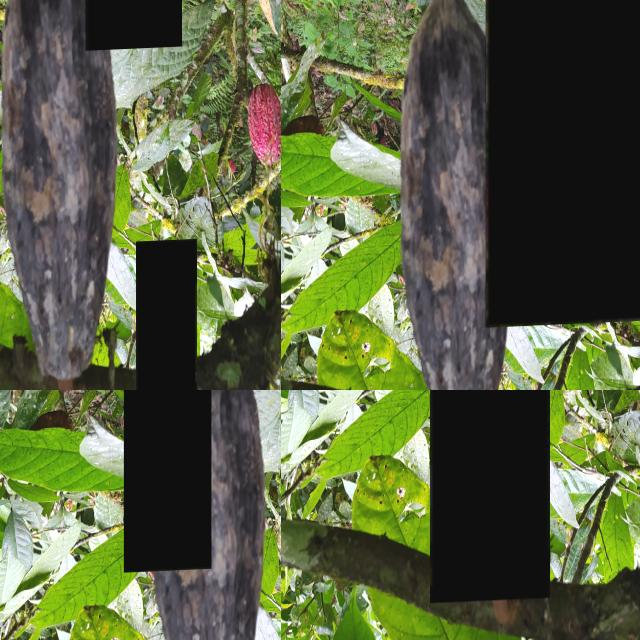Fitoftora: (430, 390, 549, 605), (85, 0, 181, 53)
Monilia: (486, 0, 640, 330)
Sana: (123, 390, 211, 574), (136, 242, 196, 390)
